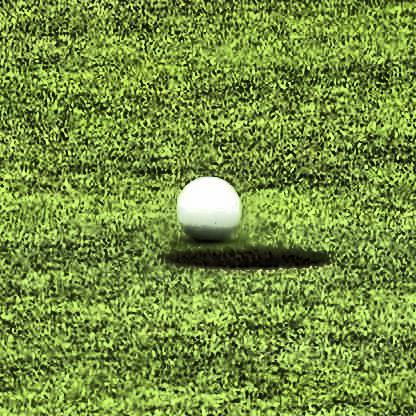golfball: (174, 174, 239, 239)
